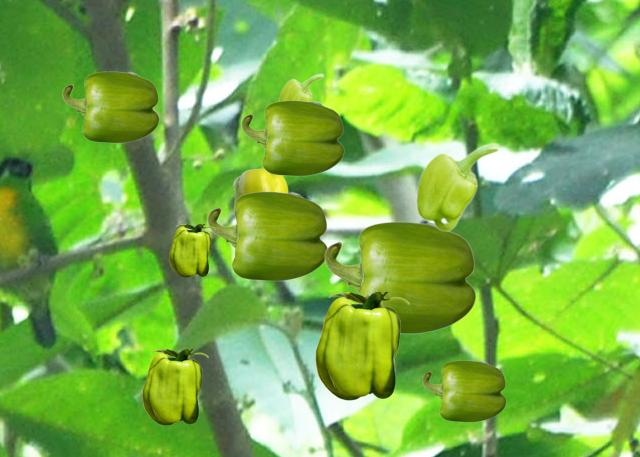bell_pepper: (324, 221, 475, 333), (207, 191, 327, 280), (315, 292, 408, 399), (241, 100, 343, 175), (415, 142, 499, 231), (62, 71, 158, 142), (422, 360, 505, 421), (142, 349, 207, 424), (233, 168, 287, 216), (169, 224, 214, 276), (278, 73, 323, 100)
